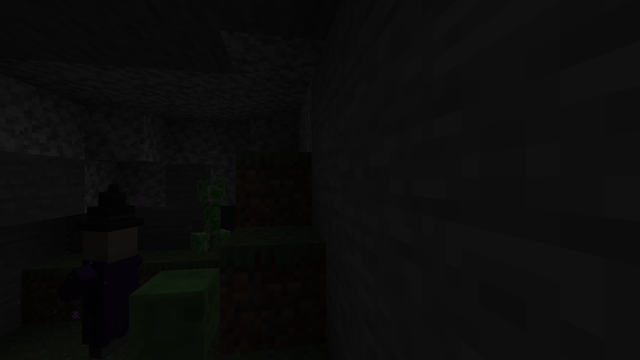creepers: (193, 176, 225, 251)
slimes: (126, 265, 217, 358)
sorcieres: (74, 219, 142, 356)
